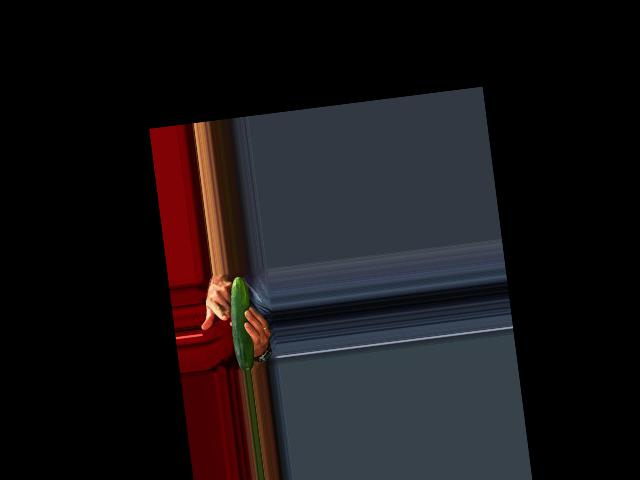cucumber: (225, 276, 259, 372)
